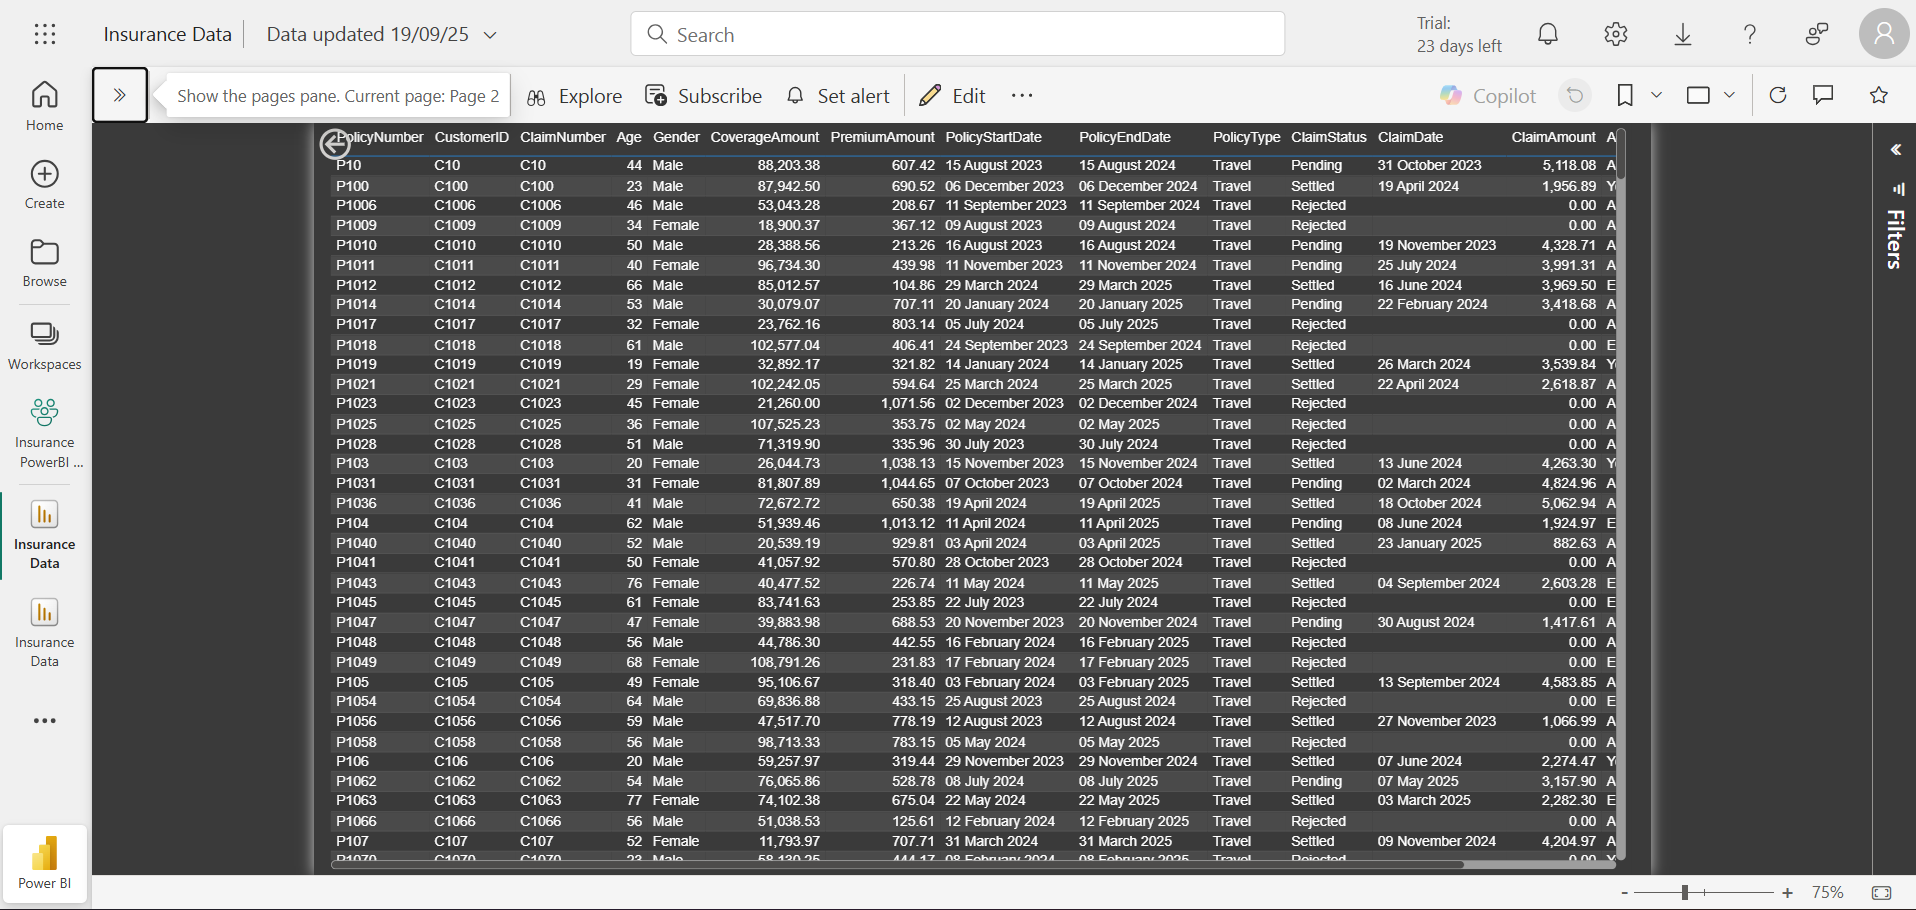

Layout of this report page (visuals, bound fields, positions):
{"tool":"powerbi","page":{"name":"Page 2","canvas":[1280,720],"ordinal":1},"visuals":[{"type":"tableEx","fields":{"Values":["InsuranceData.PolicyNumber","InsuranceData.CustomerID","InsuranceData.ClaimNumber","InsuranceData.Age","InsuranceData.Gender","InsuranceData.CoverageAmount","InsuranceData.PremiumAmount","InsuranceData.PolicyStartDate","InsuranceData.PolicyEndDate","InsuranceData.PolicyType","InsuranceData.ClaimStatus","InsuranceData.ClaimDate"]},"box":[10.4,0,1249.8,719.4],"z":0},{"type":"actionButton","box":[0,0,100,40],"z":1000}]}

Visuals, with their boxes on the page's 1280x720 design canvas (x1, y1, x2, y2). These are canvas units, not pixel positions in the 1916x910 screenshot, which may show the page scaled, cropped or inside an application window:
tableEx - InsuranceData.PolicyNumber x InsuranceData.CustomerID: box=[10, 0, 1260, 719]
actionButton: box=[0, 0, 100, 40]
